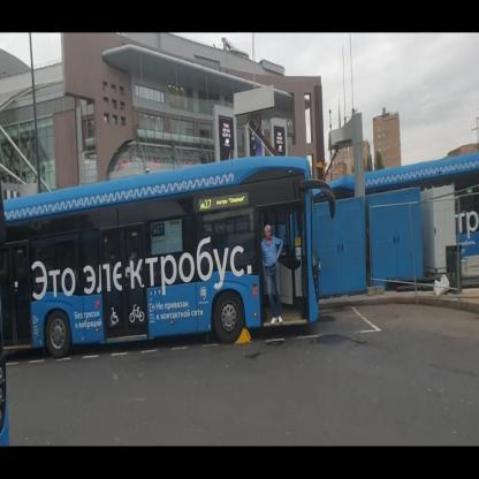bus: (0, 152, 337, 362)
